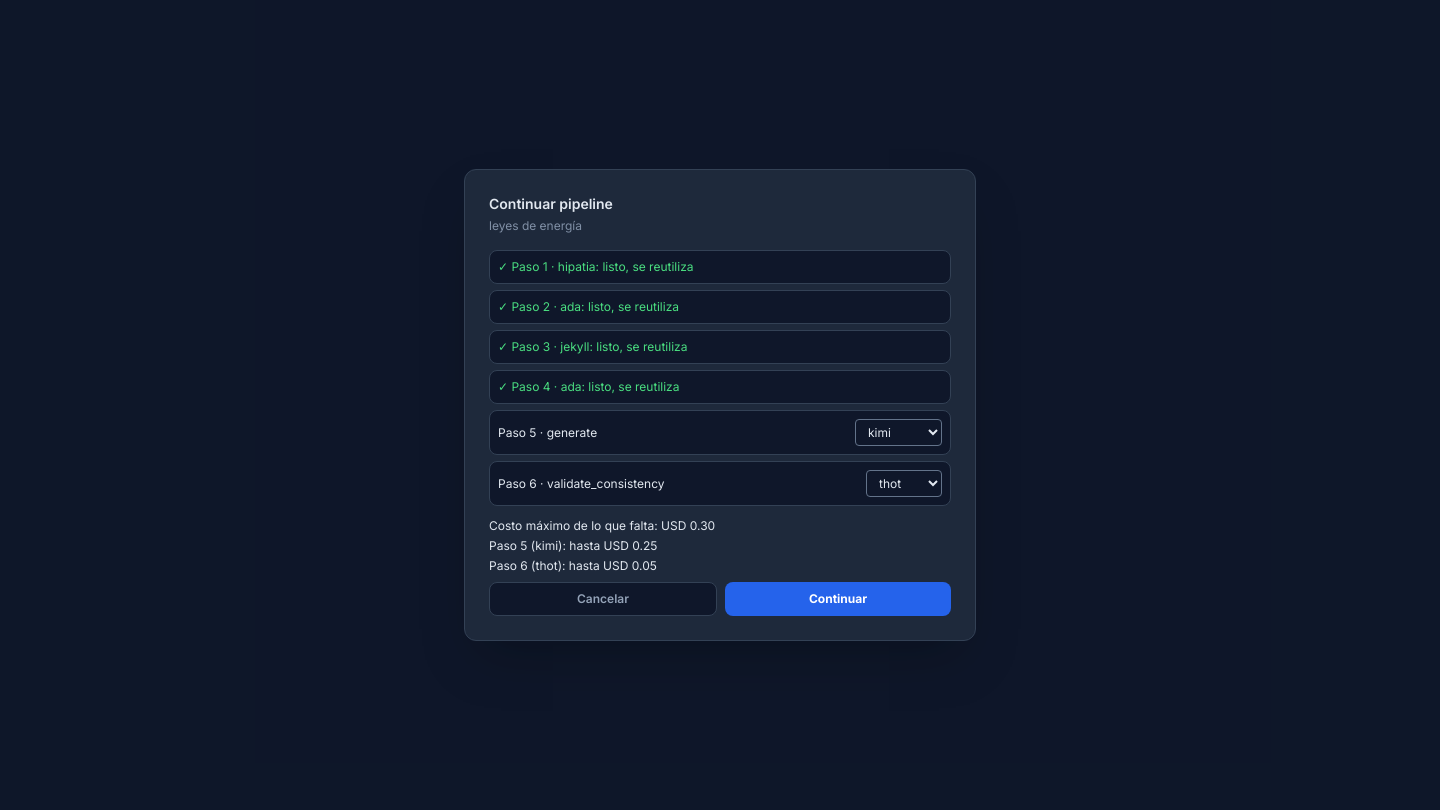
Test: ContinuarPipelineModal -- reasignar facetas › una respuesta vieja del pre-vuelo no pisa la de la reasignación vigente
Expected: the button "Continuar" is enabled, [725,582,951,616]
Select "ada" in the dropdown named "Paso 5 · generate" at [898, 432], box [855,419,942,446]
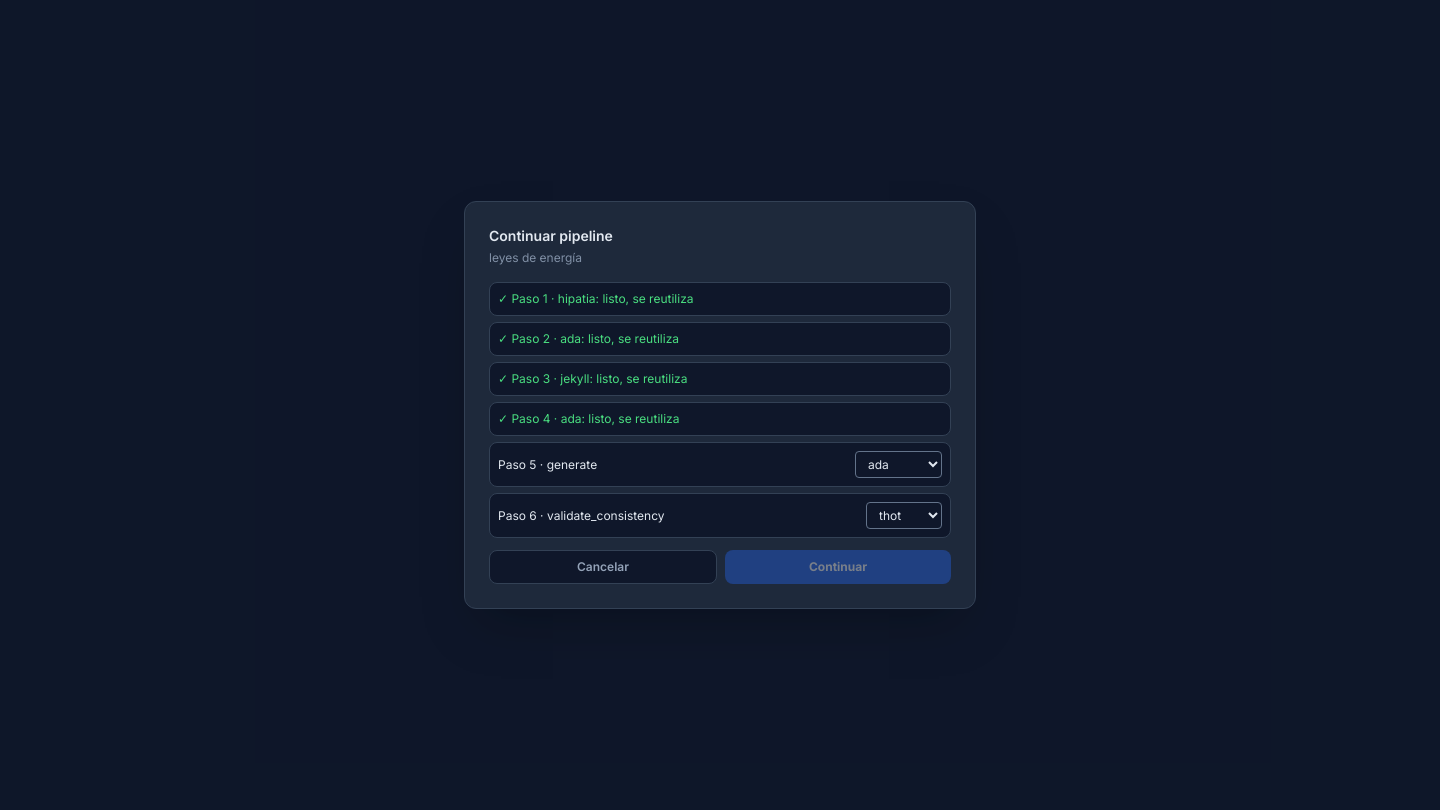
Select "jax_local" in the dropdown named "Paso 5 · generate" at [898, 464], box [855,451,942,478]
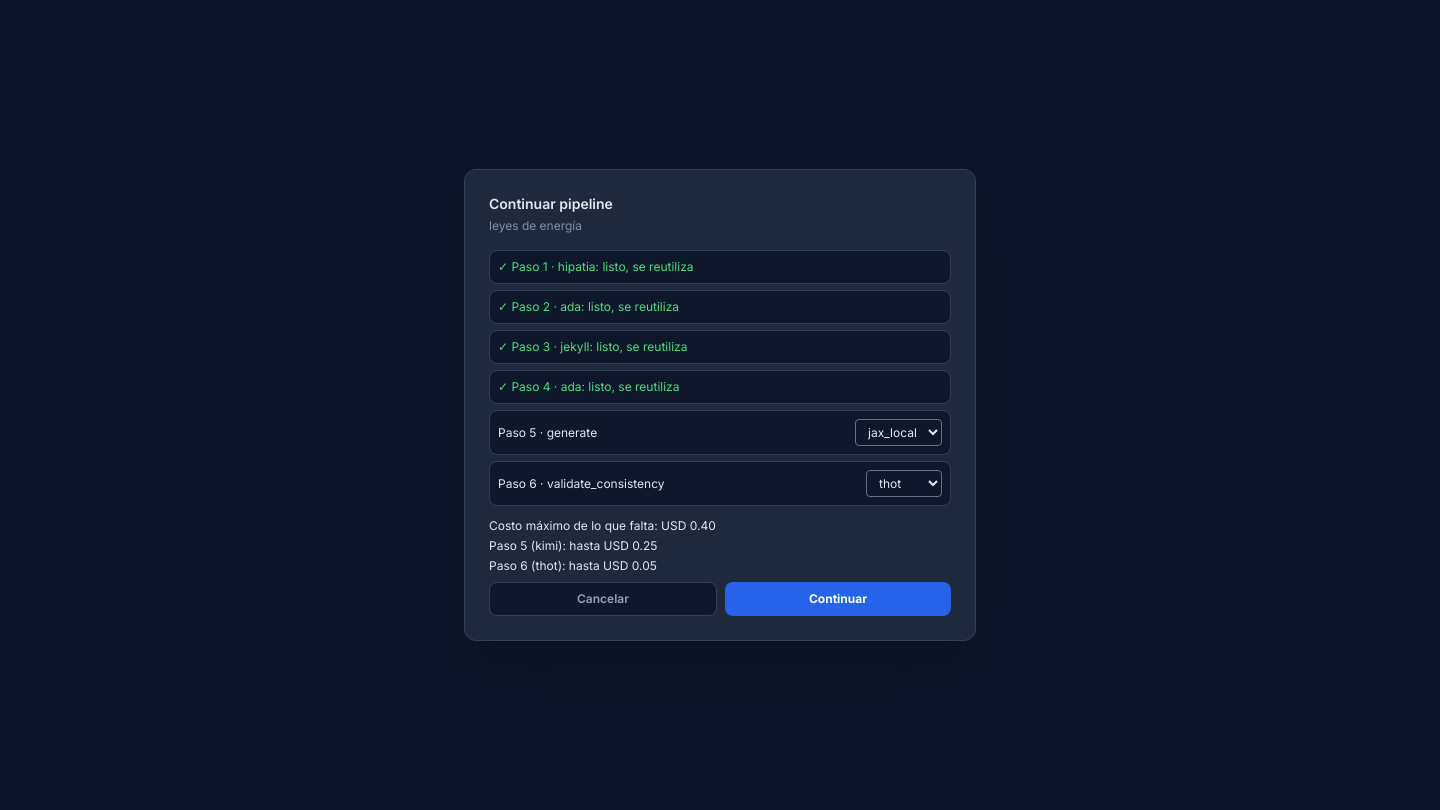
Now the button "Continuar" is enabled, box [725,582,951,616]
